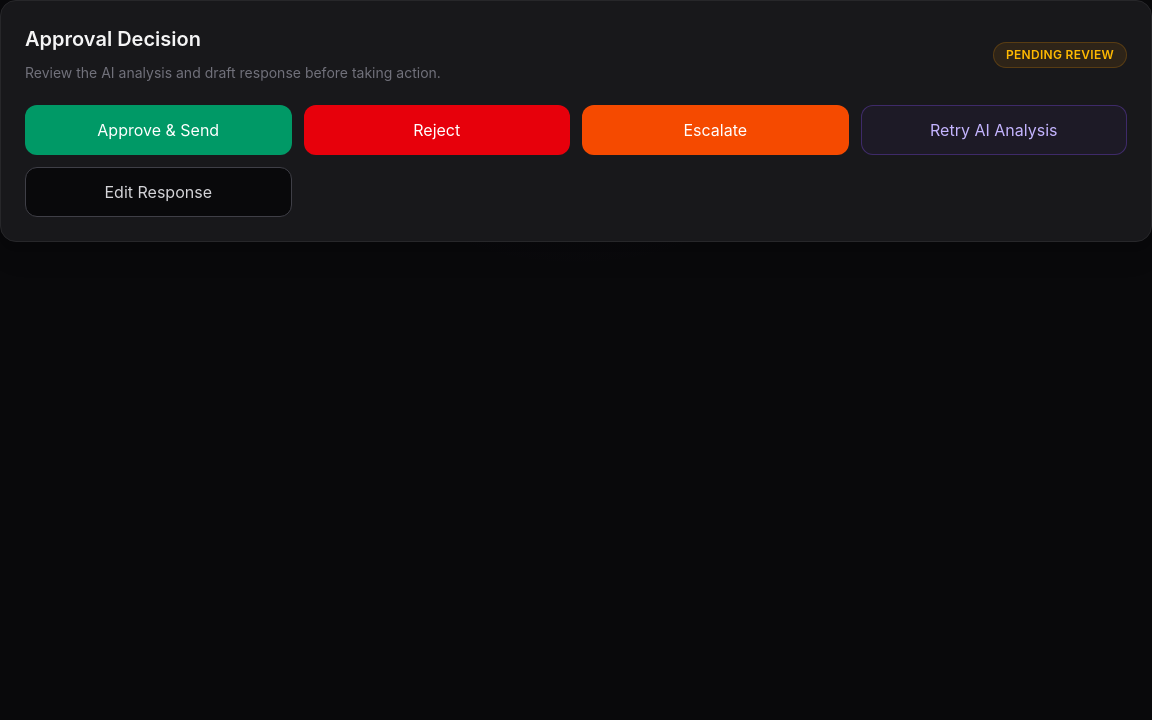
Test: ApprovalActions › requires reviewer guidance before retrying AI analysis
Click the button "Retry AI Analysis" at (994, 130), box [860,105,1127,155]
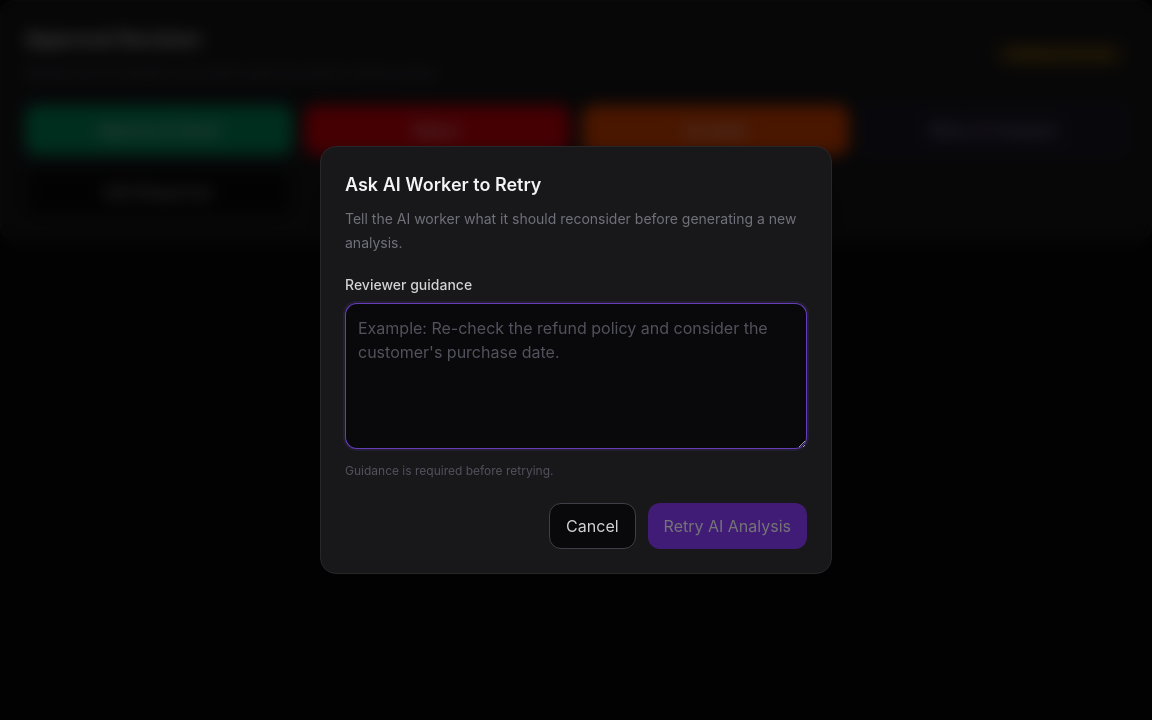
Check: the heading "Ask AI Worker to Retry" is shown, box [345,174,542,195]
Check: the button "Retry AI Analysis" is disabled, box [648,503,807,549]
